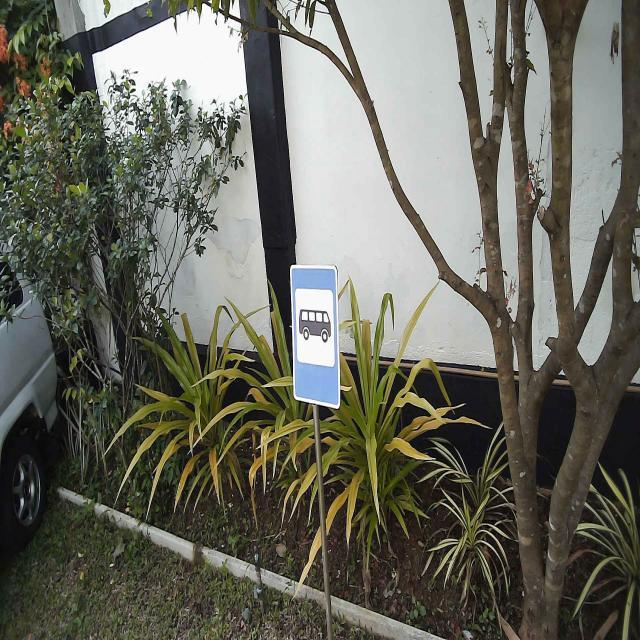bus_stop: (288, 264, 342, 411)
